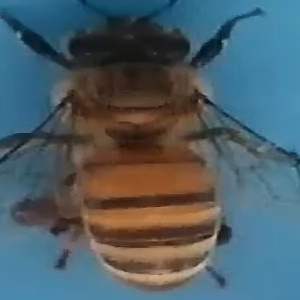bee: (5, 8, 297, 297)
